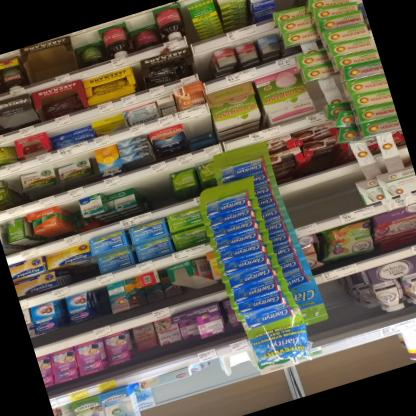empty_space: (313, 332, 397, 385), (221, 344, 266, 408), (286, 180, 328, 223), (201, 356, 233, 412), (329, 168, 364, 212), (136, 169, 173, 208)
